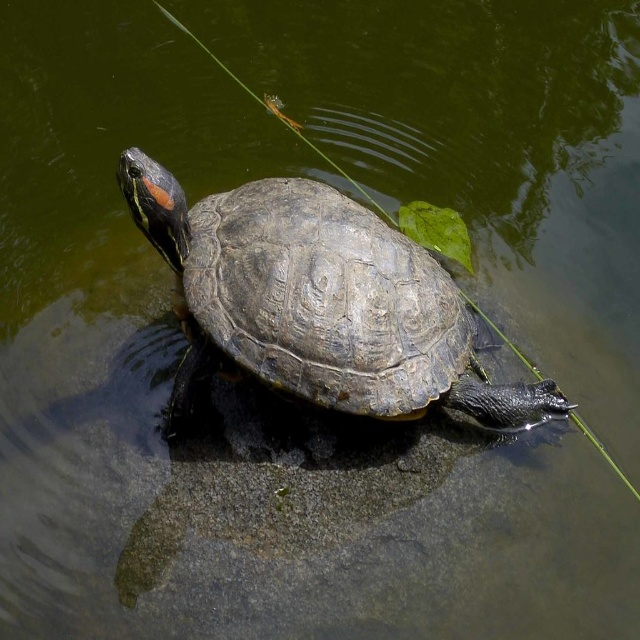Sea turtle: (116, 145, 578, 449)
